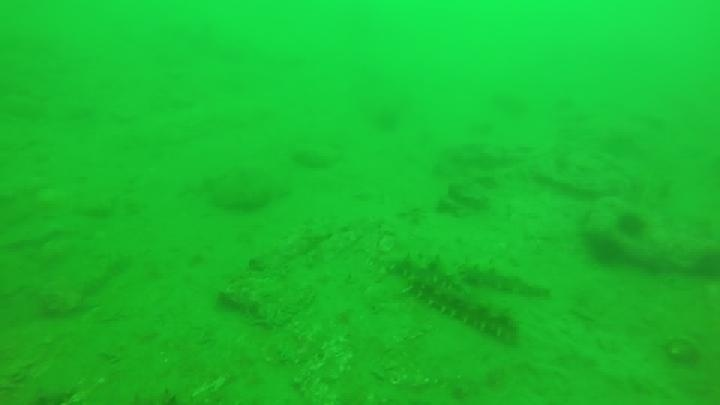echinus: (585, 231, 624, 268), (614, 210, 649, 241)
holothurian: (405, 275, 522, 346), (454, 258, 552, 300), (381, 248, 472, 292)
